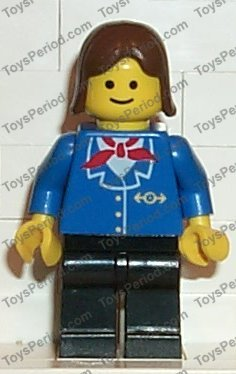lego: (8, 14, 235, 371)
